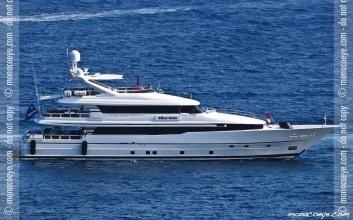yacht: (17, 47, 336, 163)
